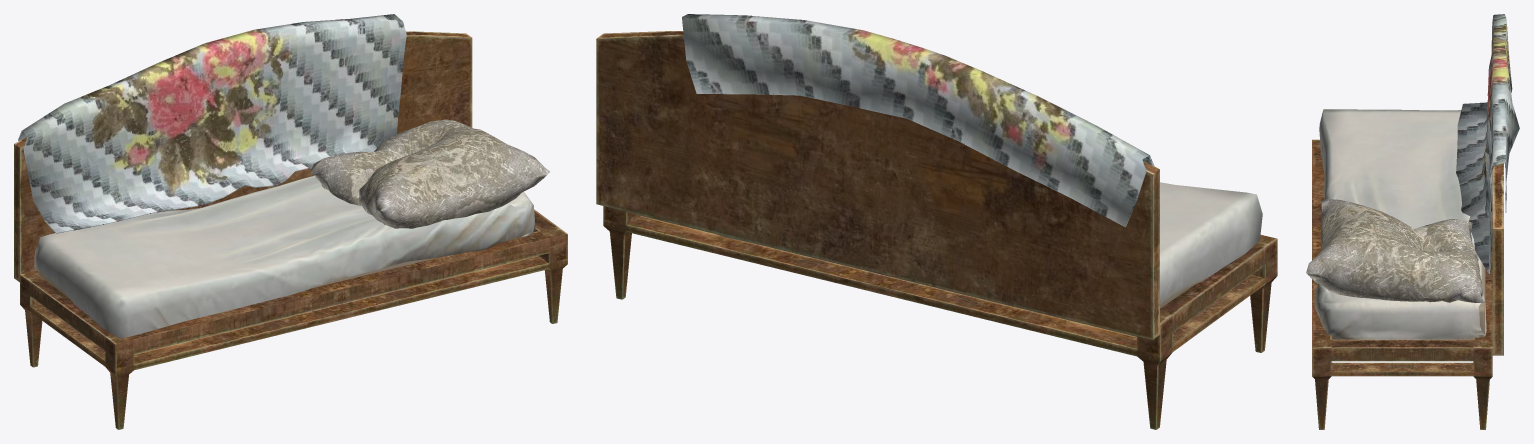
Rendered from vintage_day_bed.glb.
3 views of the same model, side by side, from view 1: azimuth 30°, elevation 25°; view 2: azimuth 150°, elevation 25°; view 3: azimuth 270°, elevation 25° (orthographic). The views are drawn at different scales.
Parts seen in each view (by area): view 1: vintage_day_bed; view 2: vintage_day_bed; view 3: vintage_day_bed.
Boxes of the visible parts, x1,y1,x2,y2 form: vintage_day_bed: [14, 14, 567, 429]; vintage_day_bed: [596, 14, 1277, 429]; vintage_day_bed: [1306, 14, 1519, 429].
Bounding box in the file's own units: 1.97 × 1.13 × 0.8547.
1 material, 1 textured.
